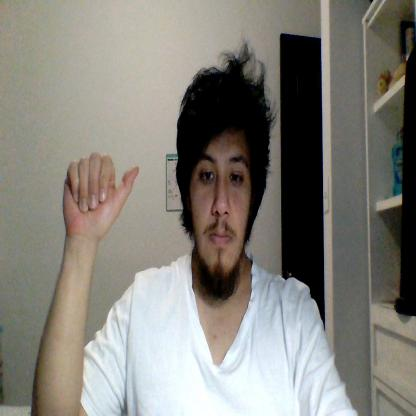A: (62, 152, 140, 238)
